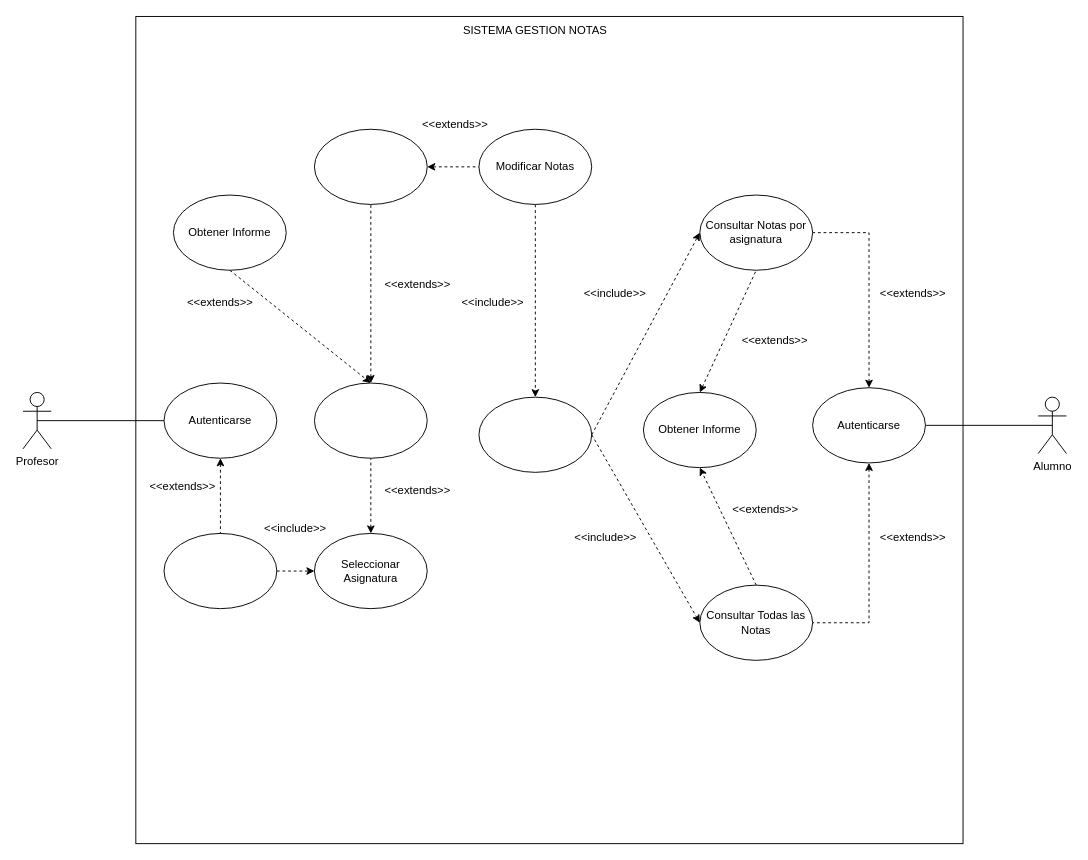
Image size: 1088x860. Some labels were removed from this diagram. Each missing label, with the centre of its shape:
"Mostrar Lista Alumnos" belongs at point (370, 420).
"Notas" belongs at point (535, 434).
"Seleccionar Alumno" belongs at point (370, 166).
"Seleccionar grupo" belongs at point (220, 571).
